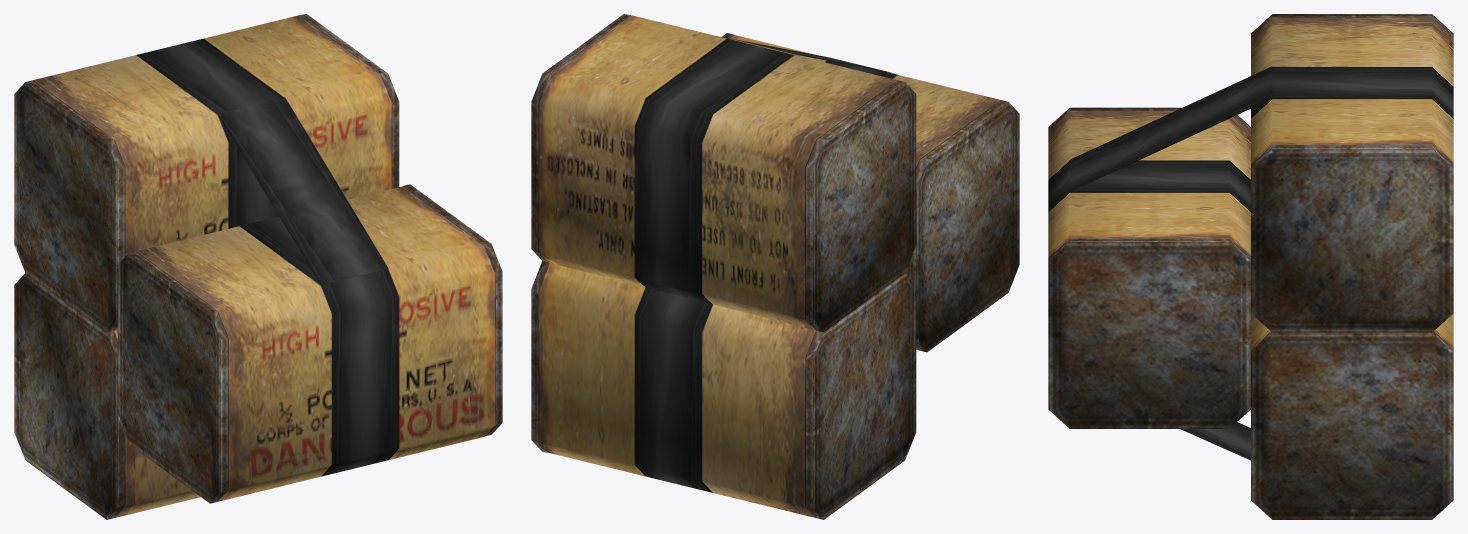
File: weapon_explosives_lod21.obj
3 renders of one model, left to right at view 1: azimuth 30°, elevation 25°; view 2: azimuth 150°, elevation 25°; view 3: azimuth 270°, elevation 25°, orthographic. The views are drawn at different scales.
Parts seen in each view (by area): view 1: TomGroup_0; view 2: TomGroup_0; view 3: TomGroup_0.
Boxes of the visible parts, x1,y1,x2,y2 form: TomGroup_0: [14, 14, 502, 519]; TomGroup_0: [531, 14, 1019, 519]; TomGroup_0: [1048, 14, 1453, 519].
Size of the model in its own units: 14.3 by 18.43 by 18.2.
1 material, 1 textured.
